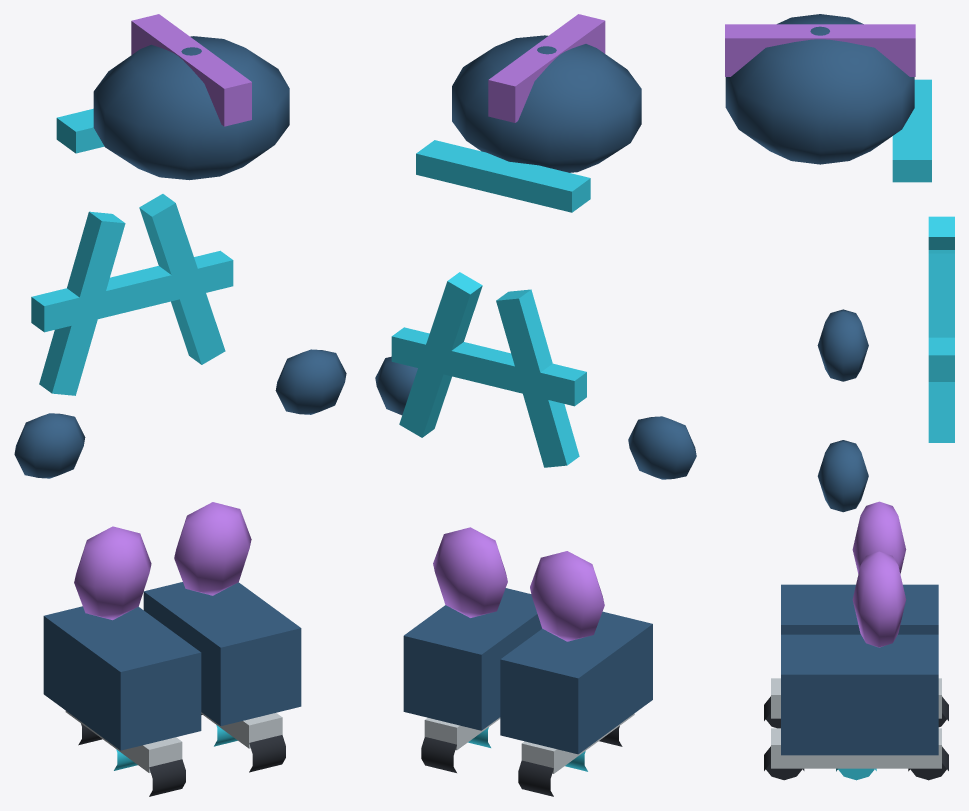
Rendered from skating_outfit.glb.
The picture shows the model from 3 angles, left to right: view 1: azimuth 30°, elevation 25°; view 2: azimuth 150°, elevation 25°; view 3: azimuth 270°, elevation 25°; orthographic projection. The views are drawn at different scales.
Visible parts, largest first — view 1: SkatingOutfit; view 2: SkatingOutfit; view 3: SkatingOutfit.
Part boxes in pixels (x1=…): SkatingOutfit: x1=14, y1=14, x2=346, y2=796; SkatingOutfit: x1=375, y1=14, x2=696, y2=796; SkatingOutfit: x1=725, y1=14, x2=954, y2=780.
Bounding box in the file's own units: 1.2 × 2.47 × 0.7.
